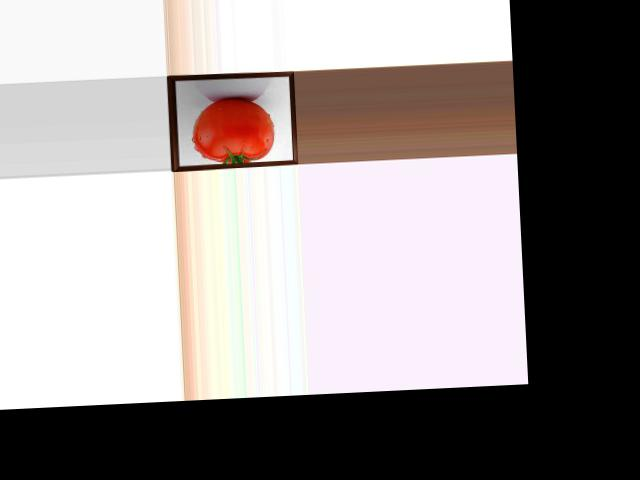tomato: (190, 96, 275, 165)
